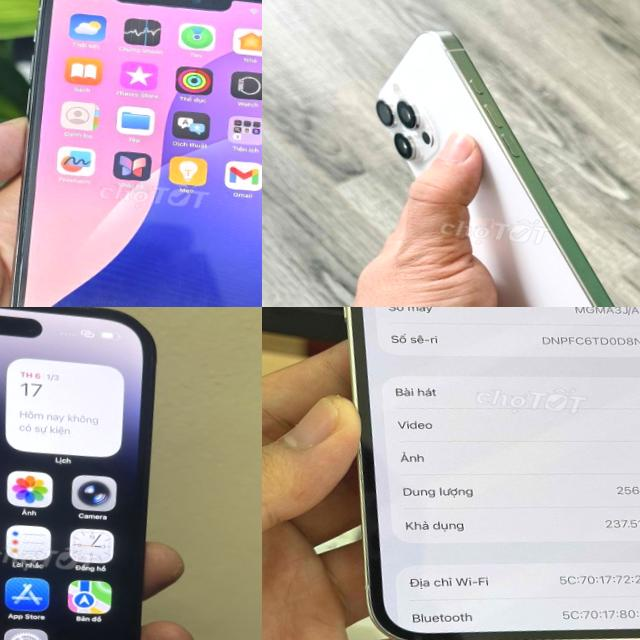gen_11: (0, 0, 262, 307)
gen_12_13: (270, 307, 640, 640)
gen_14: (0, 307, 189, 640)
gen_16: (376, 31, 615, 307)
